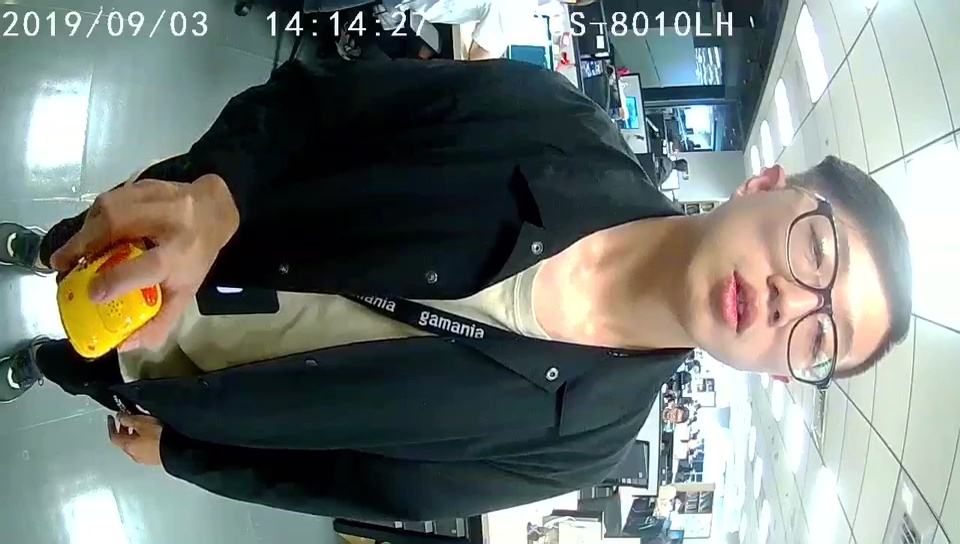car: (58, 243, 160, 356)
